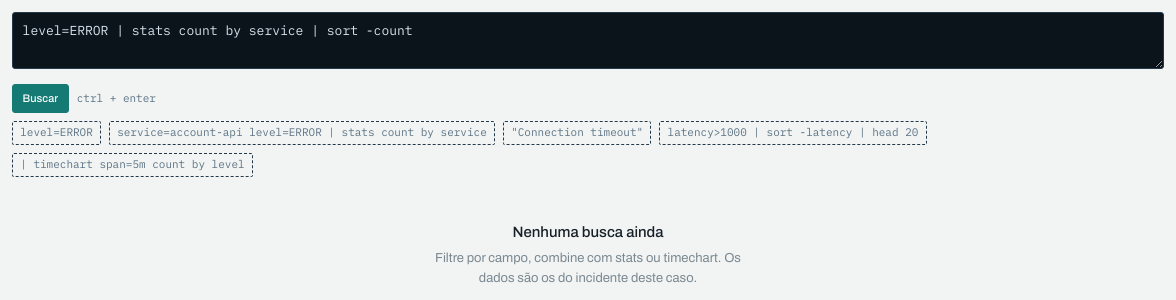
Test: LogSearch › mostra os eventos com nível, serviço e mensagem
Click the button "Buscar".
click(40, 99)  # box [12, 84, 69, 113]
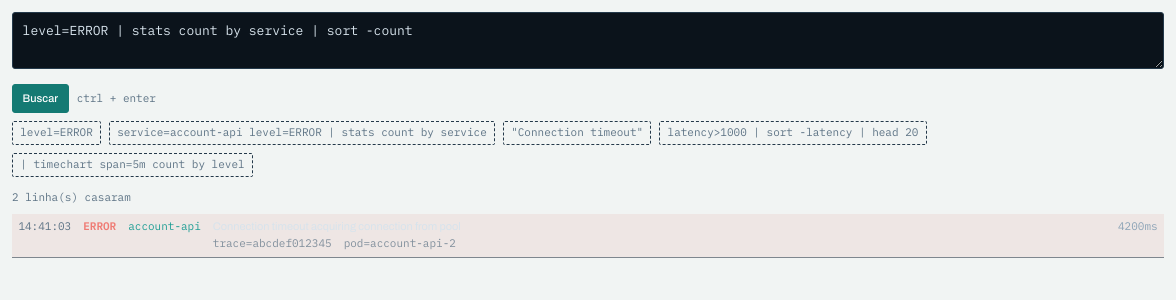
Result: the text "ERROR" is shown at [83, 218, 116, 235]
Result: the text "account-api" is shown at [128, 218, 201, 235]
Result: the text "4200ms" is shown at [1118, 218, 1158, 235]
